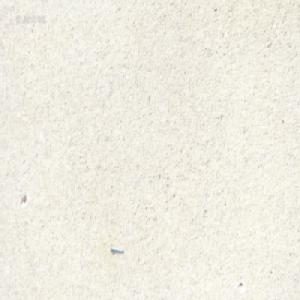Nail: (109, 244, 123, 253)
